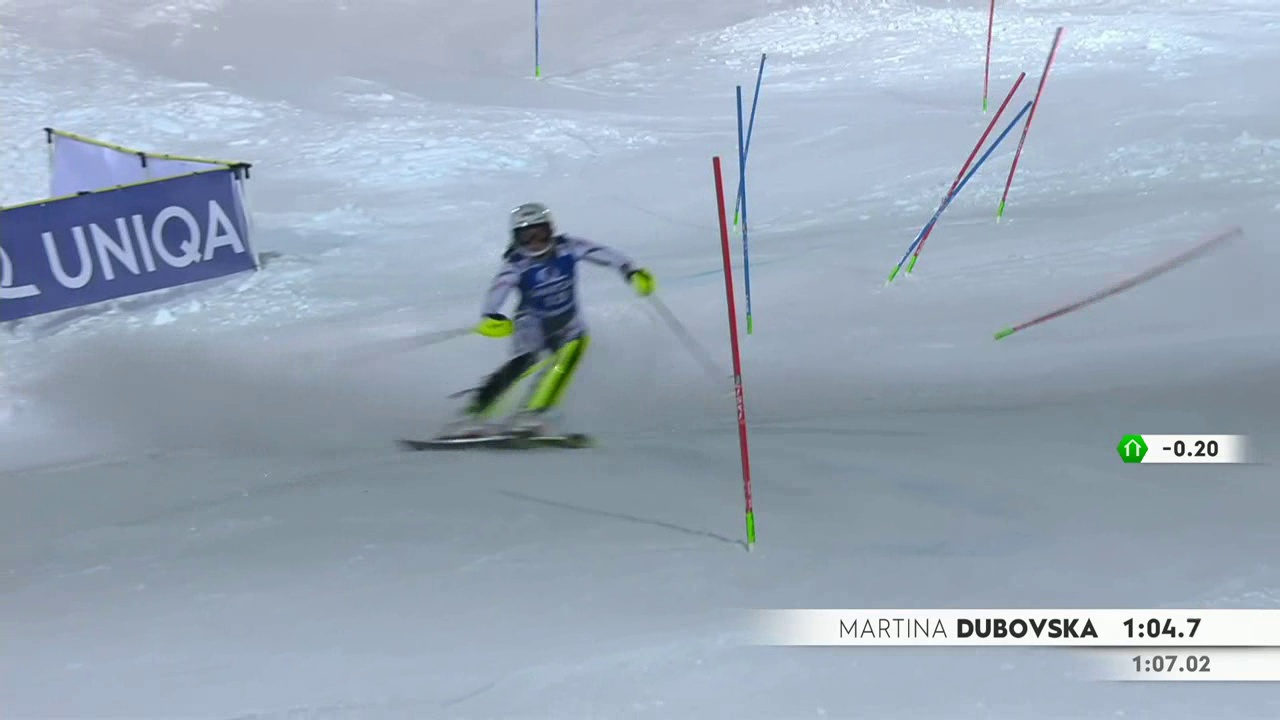uniqa: (1, 188, 250, 315)
